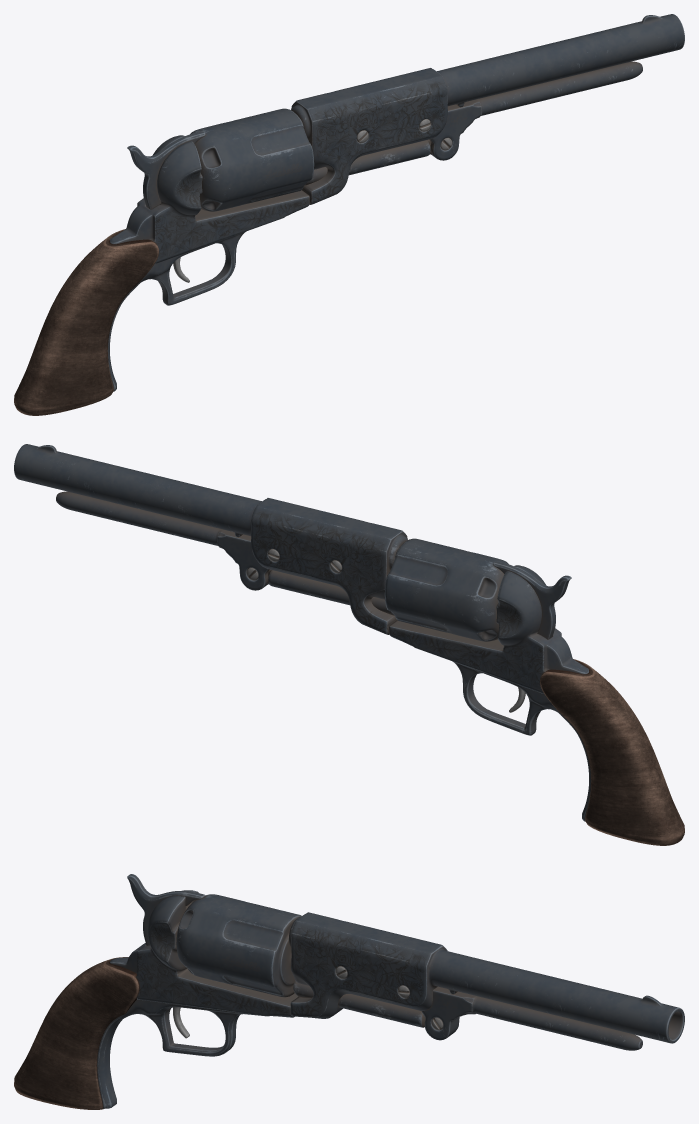
File: colt_revolver_-_free.glb
3 views of the same model, one above another, from view 1: azimuth 30°, elevation 25°; view 2: azimuth 150°, elevation 25°; view 3: azimuth 330°, elevation 25° (orthographic).
Visible parts, largest first — view 1: barrel_low.001, handle_low, drum_low, main_low, underbarrel_low, guard_low, lever_low, hammer_low; view 2: barrel_low.001, handle_low, drum_low, main_low, underbarrel_low, guard_low, lever_low, hammer_low; view 3: barrel_low.001, handle_low, drum_low, main_low, underbarrel_low, guard_low, lever_low, hammer_low, screws_low.
Part boxes in pixels (bbox=[...]): barrel_low.001: bbox=[291, 14, 684, 204]; handle_low: bbox=[14, 229, 158, 415]; drum_low: bbox=[190, 108, 314, 211]; main_low: bbox=[109, 135, 309, 263]; underbarrel_low: bbox=[429, 61, 642, 160]; guard_low: bbox=[107, 231, 246, 391]; lever_low: bbox=[304, 139, 431, 185]; hammer_low: bbox=[127, 131, 205, 209]; barrel_low.001: bbox=[14, 444, 407, 634]; handle_low: bbox=[540, 659, 684, 845]; drum_low: bbox=[384, 538, 508, 641]; main_low: bbox=[389, 565, 589, 693]; underbarrel_low: bbox=[56, 491, 269, 590]; guard_low: bbox=[452, 661, 591, 821]; lever_low: bbox=[267, 569, 394, 615]; hammer_low: bbox=[493, 561, 571, 639]; barrel_low.001: bbox=[288, 912, 684, 1043]; handle_low: bbox=[14, 957, 139, 1109]; drum_low: bbox=[176, 894, 301, 997]; main_low: bbox=[110, 890, 297, 1017]; underbarrel_low: bbox=[421, 986, 642, 1050]; guard_low: bbox=[97, 999, 269, 1108]; lever_low: bbox=[293, 980, 425, 1027]; hammer_low: bbox=[127, 874, 205, 945]; screws_low: bbox=[335, 966, 443, 1029].
Size of the model in its own units: 13.12 by 4.65 by 1.45.
Materials: 10 (10 with a texture image).
